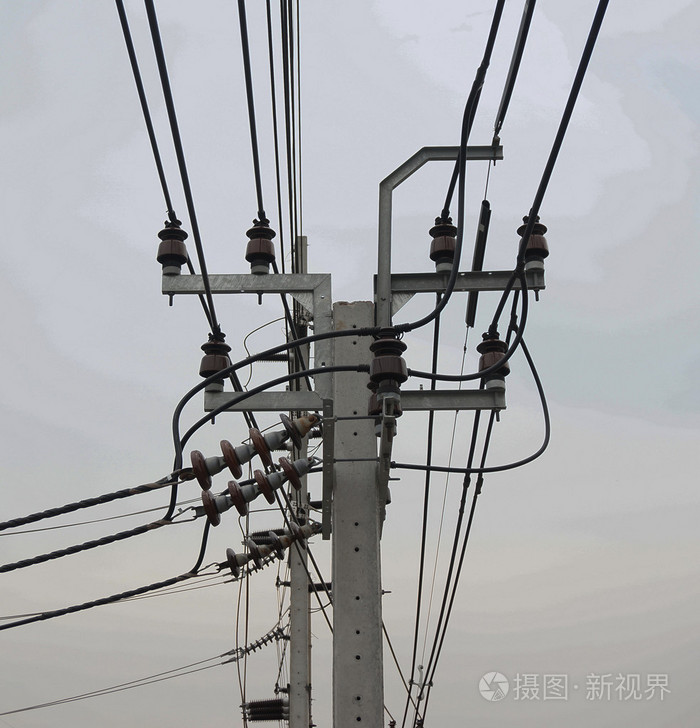insulator: (187, 414, 310, 484), (203, 457, 300, 524), (226, 531, 287, 580)
